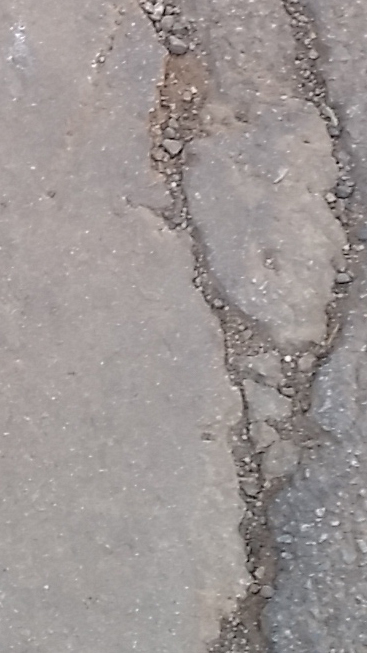A: (136, 1, 366, 641)
